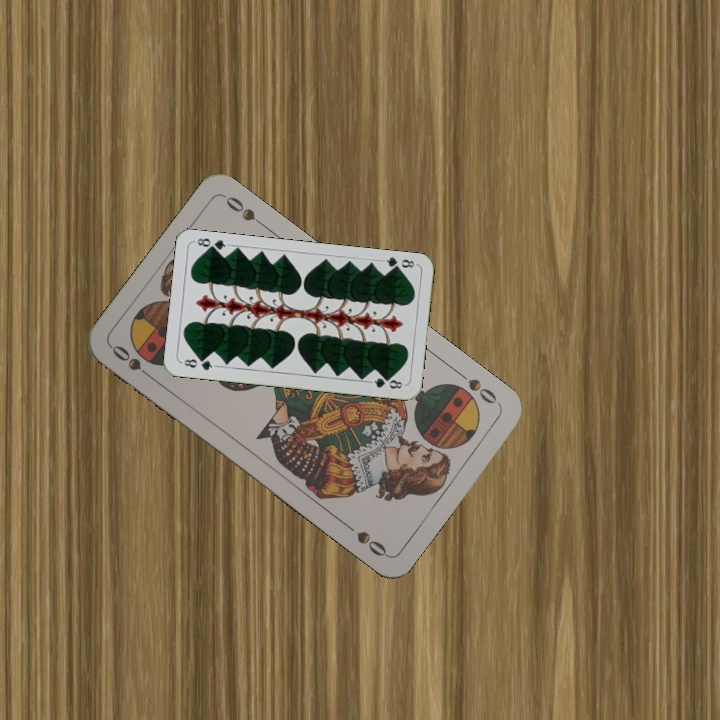G8: (378, 253, 419, 274), (178, 354, 218, 373)
SO: (107, 340, 158, 384), (452, 366, 503, 408)
